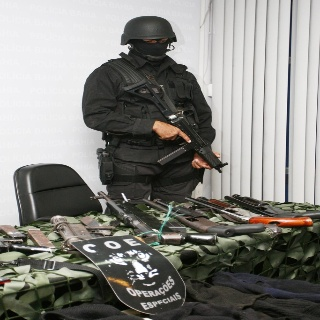rifle: (121, 74, 229, 175)
